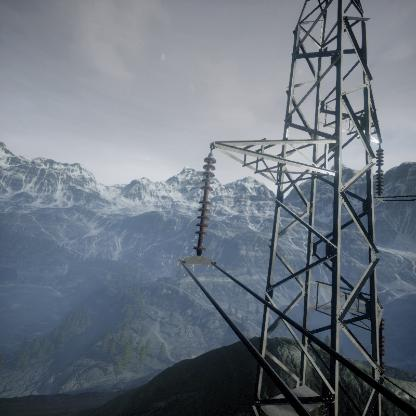insulator: (192, 150, 219, 257), (374, 149, 386, 198)
